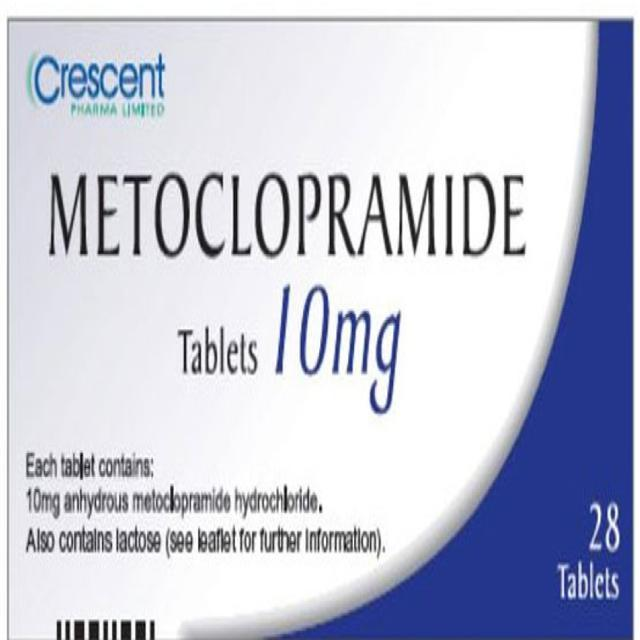drug-name: (44, 160, 531, 258)
